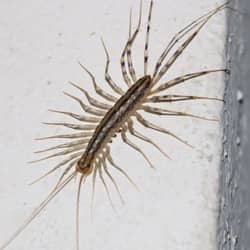centipede: (28, 2, 235, 217)
